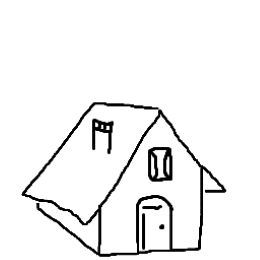bottom_placed_house: (2, 3, 260, 260)
chimney: (88, 116, 123, 156)
door: (133, 192, 178, 253)
open_window: (143, 144, 180, 188)
roof: (20, 91, 231, 225)
wall: (95, 106, 222, 256)
